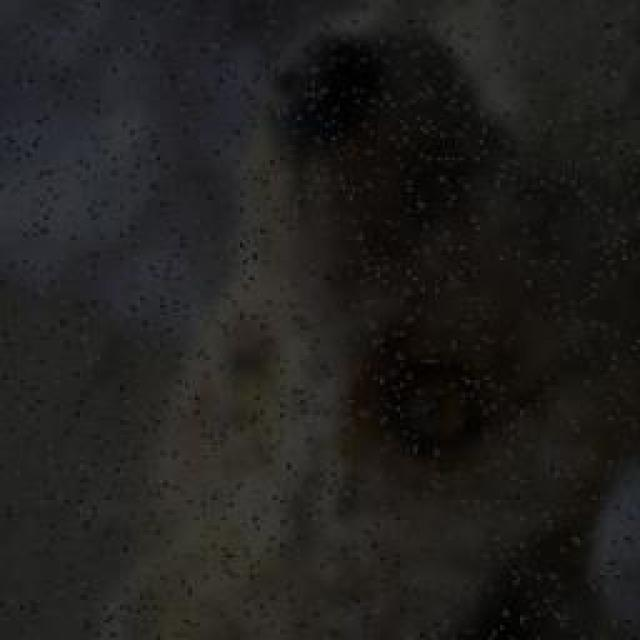Fox: (118, 32, 602, 636)
